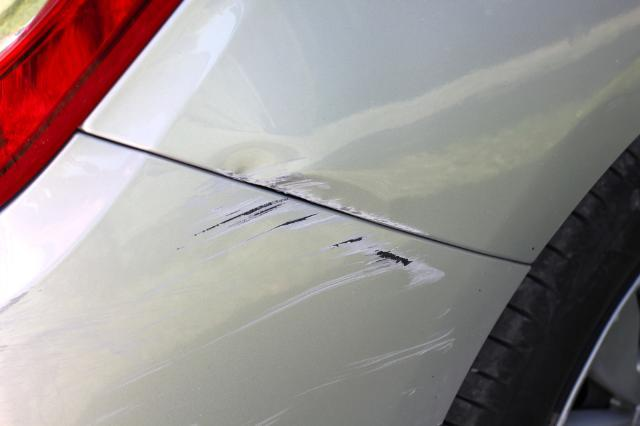dent: (216, 148, 345, 207)
scratch: (0, 179, 457, 426), (342, 207, 435, 241)
